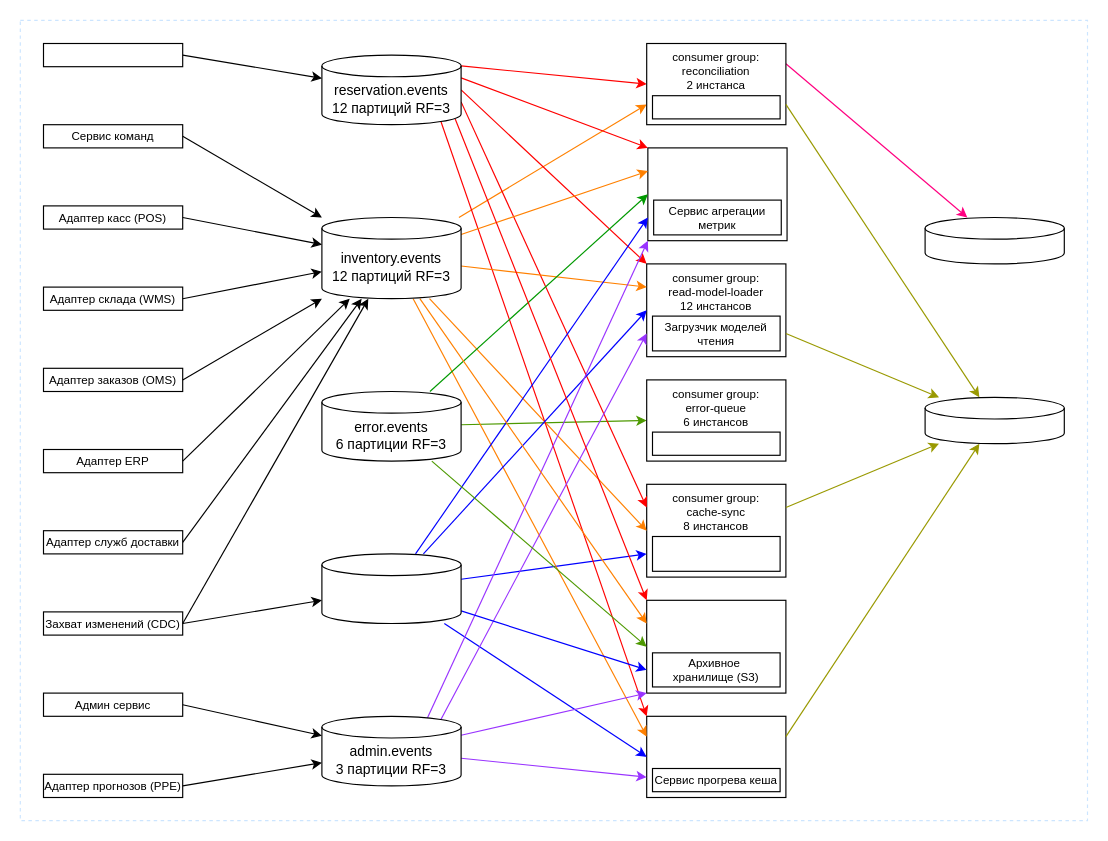
This 1108x841 diagram has some shape labels left out. Here are the shapes that lost their labels. From the top down, the box of each, then its label:
(42, 42, 183, 67): Сервис резервирования
(651, 95, 780, 119): Сервис сверки
(647, 147, 787, 241): consumer group: metrics-aggregation 3 инстанса
(924, 216, 1064, 264): reconciliation.events
(924, 396, 1064, 444): error.events
(651, 431, 780, 455): Очередь ошибок
(651, 535, 780, 571): Сервис синхронизации кеша
(321, 553, 461, 624): reconciliation.events 6 партиций RF=3
(646, 599, 786, 693): consumer group: archive-storage sink-поребитель
(646, 715, 786, 798): consumer group: cache-warmup 8 инстансов
